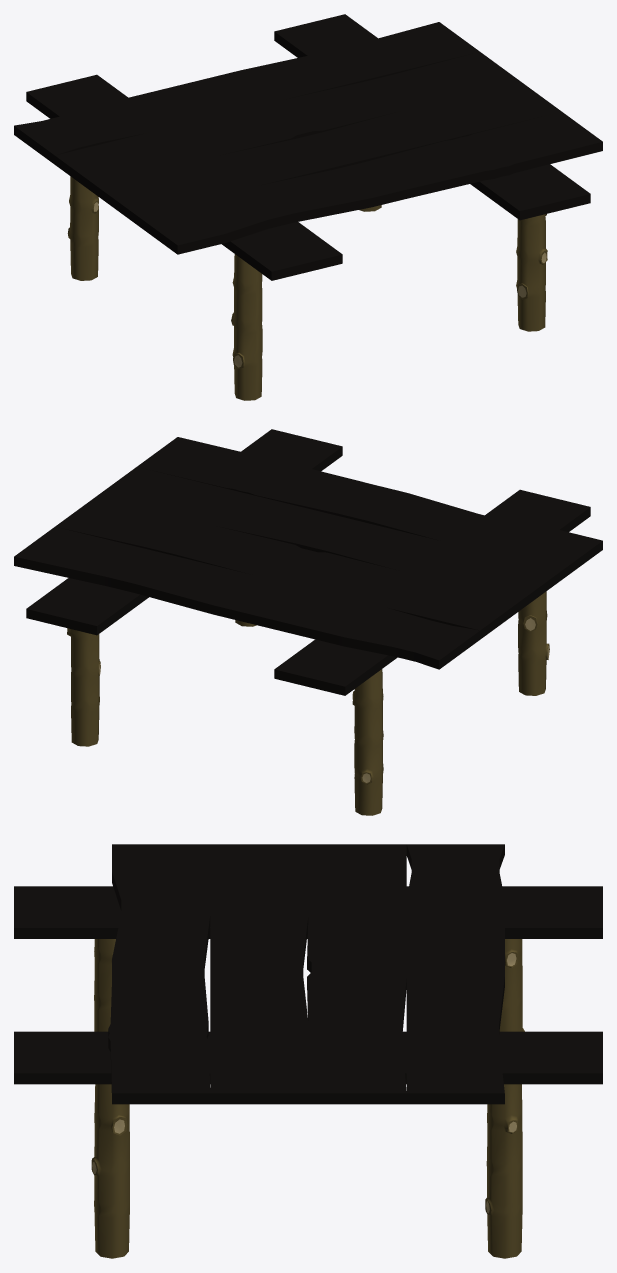
File: Platform_Build_V2.fbx
The picture shows the model from 3 angles, top to bottom: view 1: azimuth 30°, elevation 25°; view 2: azimuth 150°, elevation 25°; view 3: azimuth 270°, elevation 25°; orthographic projection. The views are drawn at different scales.
Visible parts, largest first — view 1: polySurface32; view 2: polySurface32; view 3: polySurface32.
Part boxes in pixels (x1,y1,x2,y2): polySurface32: (14,14,602,400); polySurface32: (14,429,602,815); polySurface32: (14,844,602,1258).
Size of the model in its own units: 6 by 2.25 by 6.
